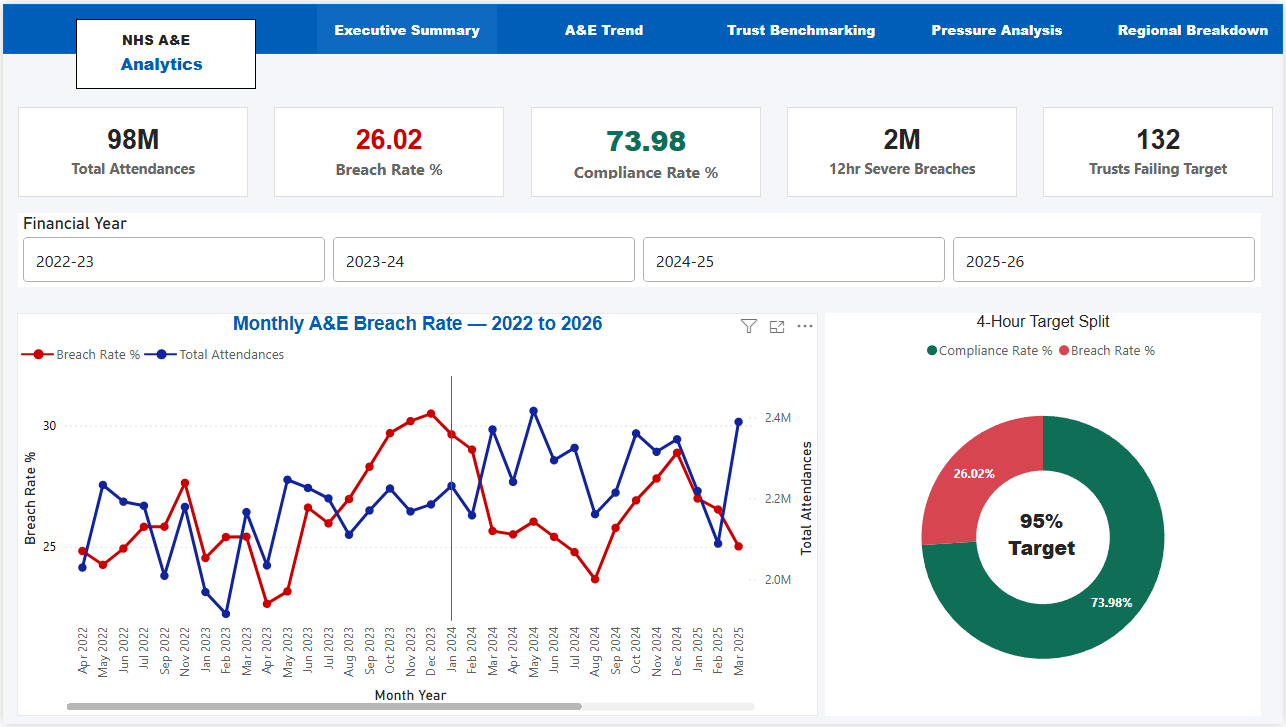

Layout of this report page (visuals, bound fields, positions):
{"tool":"powerbi","page":{"name":"Executive Summary","canvas":[1280,720],"ordinal":0},"visuals":[{"type":"group","id":"g1","title":"Group 2","box":[0,0,1280,85],"z":0},{"type":"shape","box":[0,0,1280,50],"z":0,"group":"g1"},{"type":"actionButton","title":"Executive Summary","box":[314,0,180,50],"z":1000,"group":"g1"},{"type":"shape","box":[73,15,180,70],"z":1000,"group":"g2"},{"type":"cardVisual","title":"Total Attendances","fields":{"Data":["_Measures.Total Attendances"]},"box":[15,103.4,230,90],"z":1000},{"type":"actionButton","box":[1100,0,180,50],"z":2000,"group":"g1"},{"type":"textbox","box":[114,21,90,29],"z":2000,"group":"g2"},{"type":"cardVisual","title":"Breach Rate %","fields":{"Data":["_Measures.Breach Rate %"]},"box":[271.2,103.4,230,90],"z":2000},{"type":"actionButton","box":[903.5,0,180,50],"z":3000,"group":"g1"},{"type":"textbox","box":[103,43,111,34],"z":3000,"group":"g2"},{"type":"cardVisual","title":"Compliance Rate %","fields":{"Data":["_Measures.Compliance Rate %"]},"box":[527.5,103,230,90],"z":3000},{"type":"actionButton","box":[510.5,0,180,50],"z":4000,"group":"g1"},{"type":"cardVisual","title":"12hr Severe Breaches","fields":{"Data":["_Measures.12hr Severe Breaches"]},"box":[783.8,103,230,90],"z":4000},{"type":"actionButton","box":[708,0,180,50],"z":5000,"group":"g1"},{"type":"cardVisual","title":"Trusts Failing Target","fields":{"Data":["_Measures.Trusts Failing Target"]},"box":[1040,103,230,90],"z":5000},{"type":"group","id":"g2","title":"Group 1","box":[73,15,180,70],"z":6000,"group":"g1"},{"type":"lineChart","title":"Monthly A&E Breach Rate — 2022 to 2026","fields":{"Category":["dim_date.Month Year"],"Y":["_Measures.Breach Rate %"],"Y2":["_Measures.Total Attendances"]},"box":[14,309,801,403],"z":6000},{"type":"donutChart","title":"4-Hour Target Split","fields":{"Y":["_Measures.Compliance Rate %","_Measures.Breach Rate %"]},"box":[822,309,436,403],"z":7000,"group":"g3"},{"type":"advancedSlicerVisual","fields":{"Values":["dim_date.Financial Year"]},"box":[15,209,1243,74],"z":8000},{"type":"textbox","box":[992,498.2,93,69.9],"z":9500,"group":"g3"},{"type":"group","id":"g3","title":"Group 3","box":[822,309,436,403],"z":9501}]}

Visuals, with their boxes in screenshot pixels (x1, y1, x2, y2), scaled from the page's 1280x720 canvas onto the 1286x727 screenshot:
"Group 2" group: pyautogui.locateOnScreen(0, 0, 1285, 86)
shape: pyautogui.locateOnScreen(0, 0, 1285, 50)
"Executive Summary" actionButton: pyautogui.locateOnScreen(315, 0, 496, 50)
shape: pyautogui.locateOnScreen(73, 15, 254, 86)
"Total Attendances" cardVisual: pyautogui.locateOnScreen(15, 104, 246, 195)
actionButton: pyautogui.locateOnScreen(1105, 0, 1285, 50)
textbox: pyautogui.locateOnScreen(115, 21, 205, 50)
"Breach Rate %" cardVisual: pyautogui.locateOnScreen(272, 104, 504, 195)
actionButton: pyautogui.locateOnScreen(908, 0, 1089, 50)
textbox: pyautogui.locateOnScreen(103, 43, 215, 78)
"Compliance Rate %" cardVisual: pyautogui.locateOnScreen(530, 104, 761, 195)
actionButton: pyautogui.locateOnScreen(513, 0, 694, 50)
"12hr Severe Breaches" cardVisual: pyautogui.locateOnScreen(787, 104, 1019, 195)
actionButton: pyautogui.locateOnScreen(711, 0, 892, 50)
"Trusts Failing Target" cardVisual: pyautogui.locateOnScreen(1045, 104, 1276, 195)
"Group 1" group: pyautogui.locateOnScreen(73, 15, 254, 86)
"Monthly A&E Breach Rate — 2022 to 2026" lineChart: pyautogui.locateOnScreen(14, 312, 819, 719)
"4-Hour Target Split" donutChart: pyautogui.locateOnScreen(826, 312, 1264, 719)
advancedSlicerVisual - dim_date.Financial Year: pyautogui.locateOnScreen(15, 211, 1264, 286)
textbox: pyautogui.locateOnScreen(997, 503, 1090, 574)
"Group 3" group: pyautogui.locateOnScreen(826, 312, 1264, 719)
